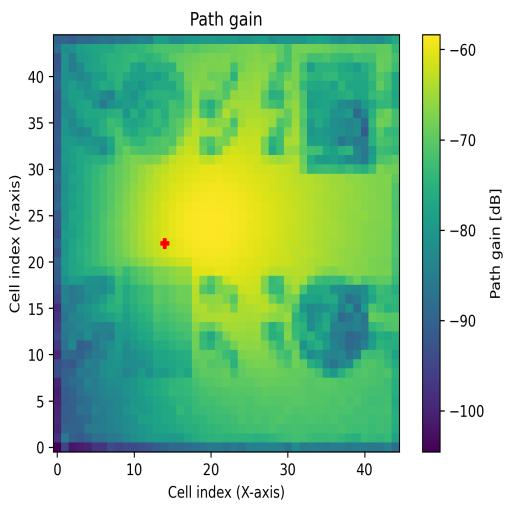Concrete: (300, 53, 377, 174)
Glass: (122, 60, 192, 164)
Metal: (293, 276, 376, 377)
Wood: (123, 267, 193, 380)
